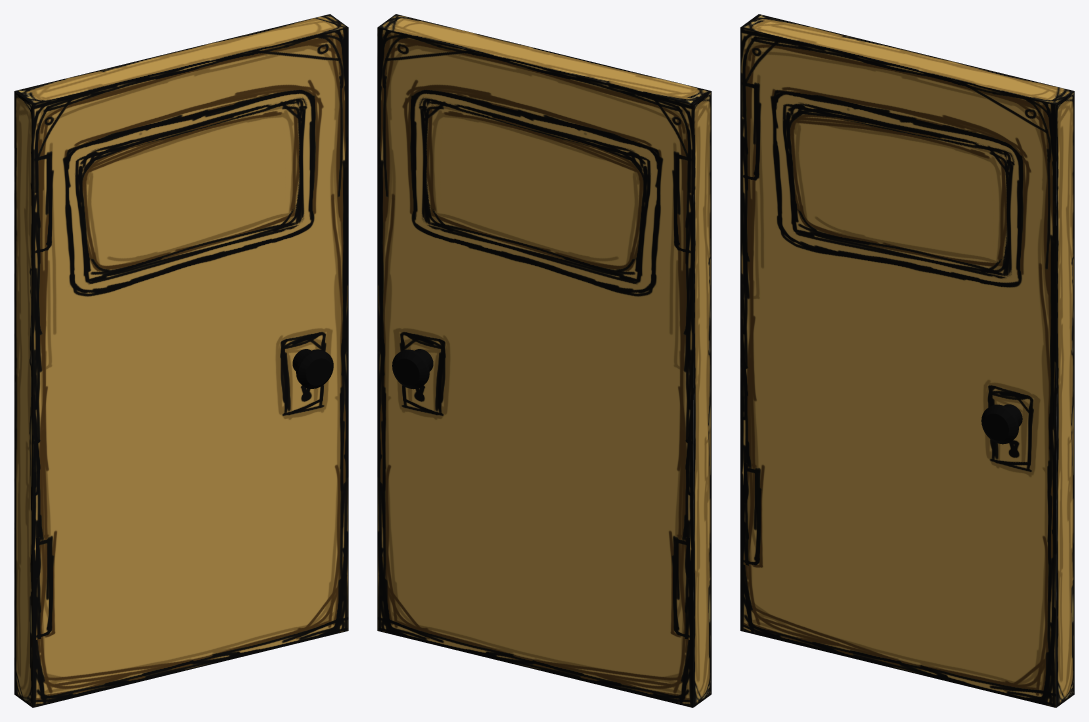
The model's file is basedoor.fbx.
The picture shows the model from 3 angles, left to right: view 1: azimuth 30°, elevation 25°; view 2: azimuth 150°, elevation 25°; view 3: azimuth 330°, elevation 25°; orthographic projection.
Parts seen in each view (by area): view 1: Base level.031; view 2: Base level.031; view 3: Base level.031.
Part boxes in pixels (x1,y1,x2,y2): Base level.031: (14,14,348,707); Base level.031: (377,14,711,707); Base level.031: (740,14,1074,707).
Size of the model in its own units: 178 by 324 by 47.53.
